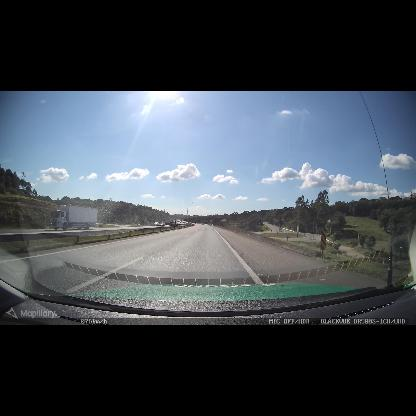O-MP: (320, 228, 326, 250)
